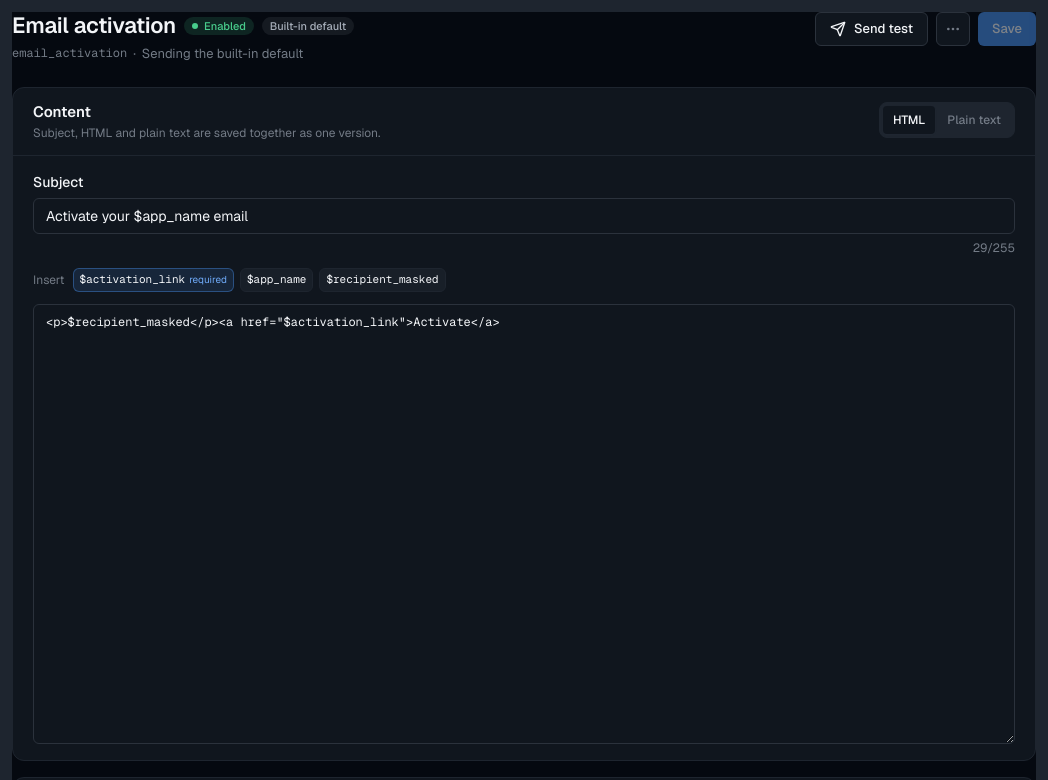
Test: EmailTemplateEditor › on an invalid draft: announces the problems, pauses the preview and blocks Save + Send test
Replace the text in the text box named "HTML body" with "<p>$nope</p><a href=\"$activation_link\">x</a>" at [524, 524], box [33,304,1015,744]
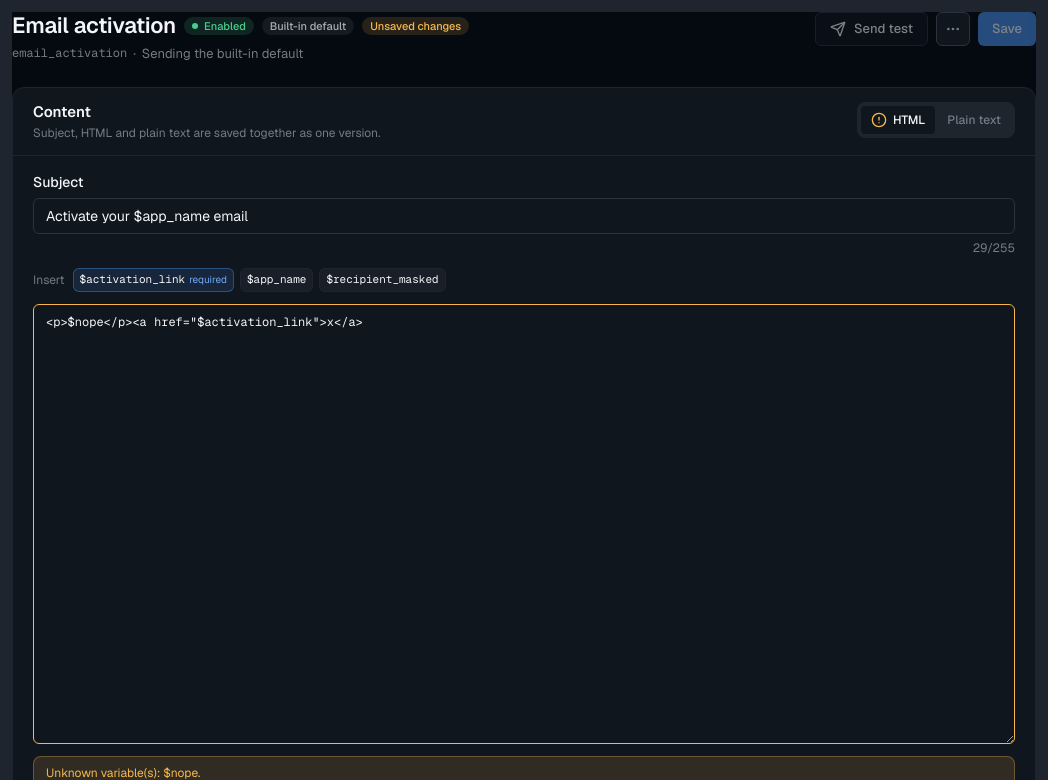
Check: the button "Save" is disabled, box [978,12,1036,46]
Check: the list item "Unknown variable(s): $nope." is shown, box [46,765,200,779]
Check: the button "Send test" is disabled, box [815,12,928,46]
